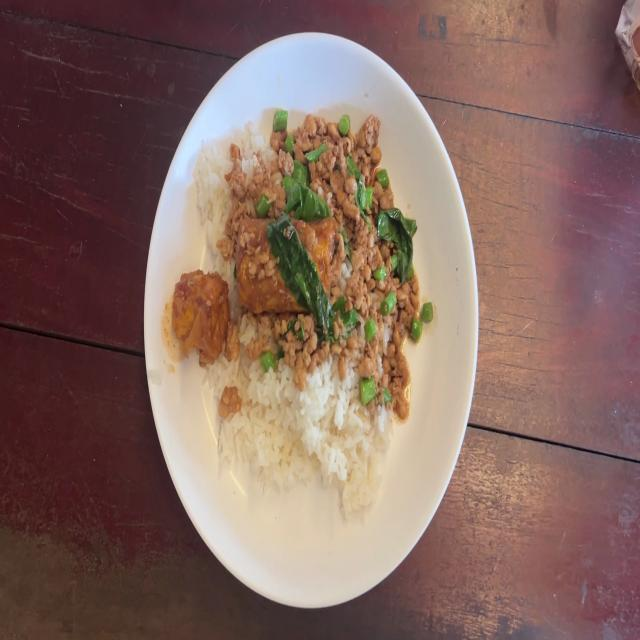01rice: (256, 382, 375, 495), (189, 136, 232, 265)
fried_tofo: (236, 220, 333, 312), (166, 268, 228, 359)
minced_pork: (232, 110, 408, 218), (336, 220, 421, 414), (241, 316, 331, 369)
stir_fried_basil: (170, 104, 433, 517)
